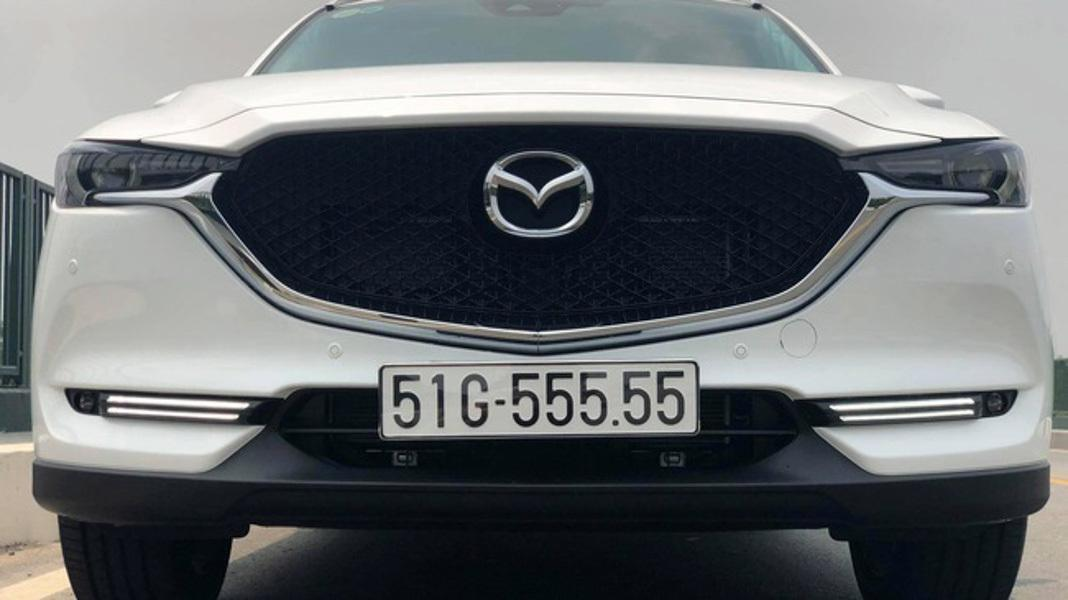numplate: (375, 357, 699, 437)
